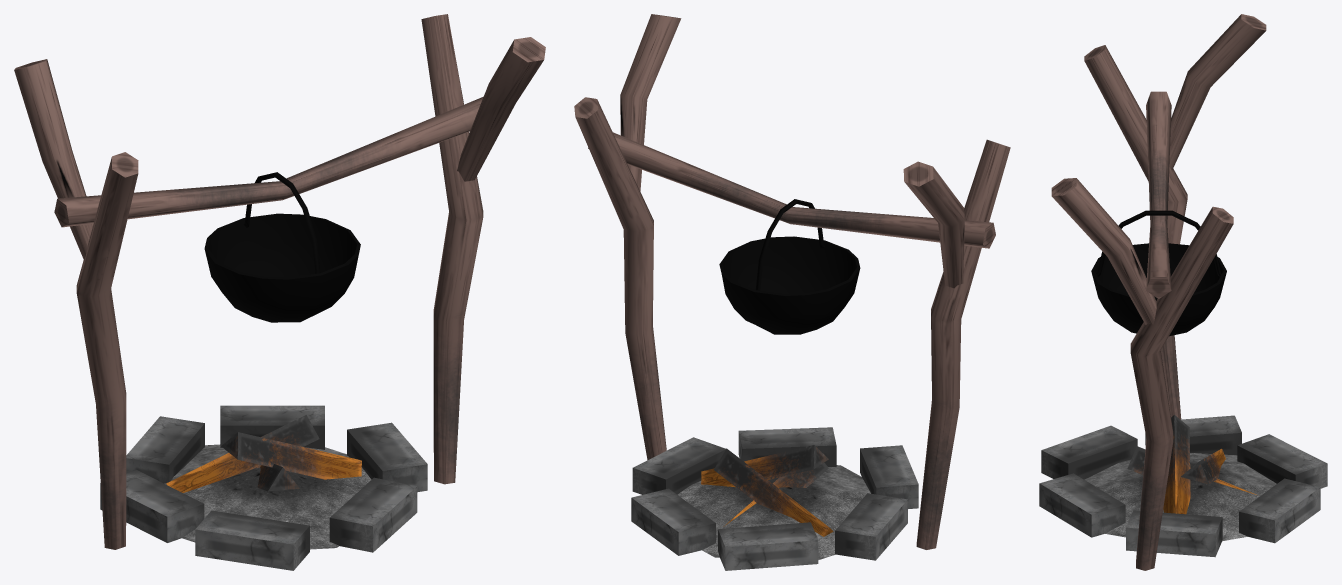
Rendered from BonfireAessembled.FBX.
3 views of the same model, side by side, from view 1: azimuth 30°, elevation 25°; view 2: azimuth 150°, elevation 25°; view 3: azimuth 270°, elevation 25° (orthographic). The views are drawn at different scales.
Parts seen in each view (by area): view 1: BonfireAessembled; view 2: BonfireAessembled; view 3: BonfireAessembled.
Boxes of the visible parts, x1=… form: BonfireAessembled: x1=14, y1=14, x2=545, y2=570; BonfireAessembled: x1=574, y1=14, x2=1010, y2=570; BonfireAessembled: x1=1039, y1=14, x2=1327, y2=570.
Size of the model in its own units: 116 by 119 by 76.4.
